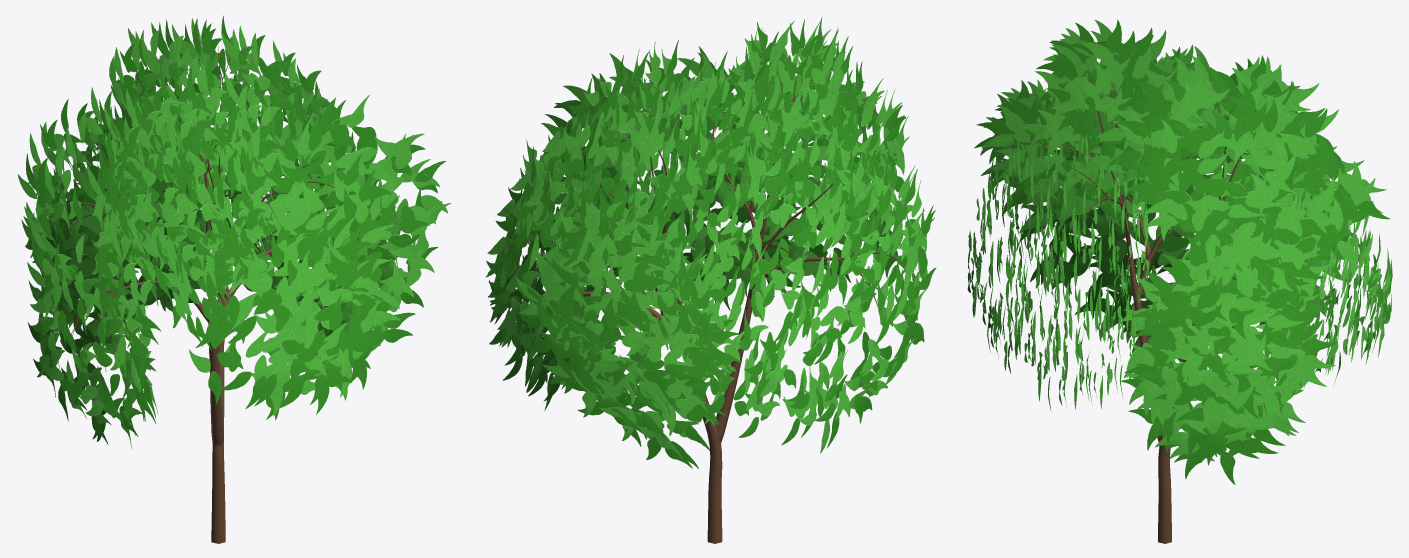
Rendered from Model_GenericTree01.fbx.
3 views of the same model, side by side, from view 1: azimuth 30°, elevation 25°; view 2: azimuth 150°, elevation 25°; view 3: azimuth 270°, elevation 25° (orthographic). The views are drawn at different scales.
Parts seen in each view (by area): view 1: Leaves1, Generic_Trunk1; view 2: Leaves1, Generic_Trunk1; view 3: Leaves1, Generic_Trunk1.
Part boxes in pixels (x1,y1,x2,y2): Leaves1: (18,15,451,448); Generic_Trunk1: (61,42,334,543); Leaves1: (485,17,936,468); Generic_Trunk1: (512,54,916,543); Leaves1: (967,19,1392,484); Generic_Trunk1: (1001,67,1291,543).
Size of the model in its own units: 5.29 by 6.77 by 5.24.
